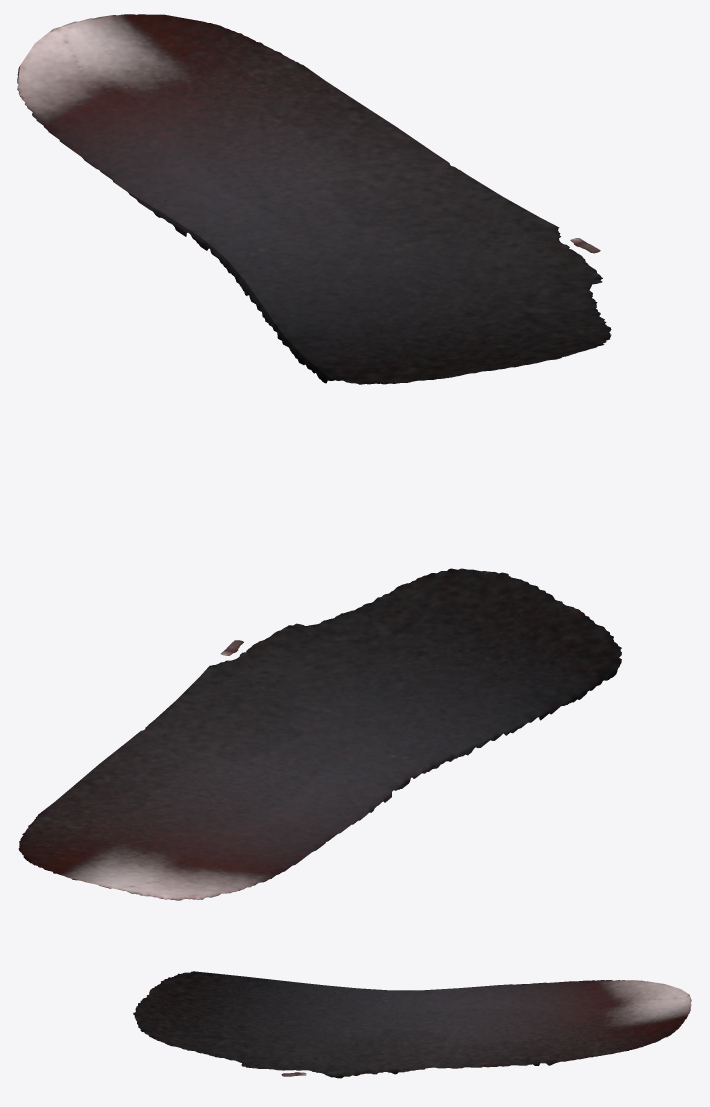
File: Puma125125125.obj
3 views of the same model, one above another, from view 1: azimuth 30°, elevation 25°; view 2: azimuth 150°, elevation 25°; view 3: azimuth 270°, elevation 25° (orthographic). The views are drawn at different scales.
Visible parts, largest first — view 1: Plantilla; view 2: Plantilla; view 3: Plantilla.
Part boxes in pixels (left/top/right/bottom): Plantilla: left=17, top=14, right=611, bottom=384; Plantilla: left=18, top=568, right=621, bottom=900; Plantilla: left=133, top=971, right=691, bottom=1078.
Bounding box in the file's own units: 0.0996 × 0.0284 × 0.2779.
1 material, 1 textured.
